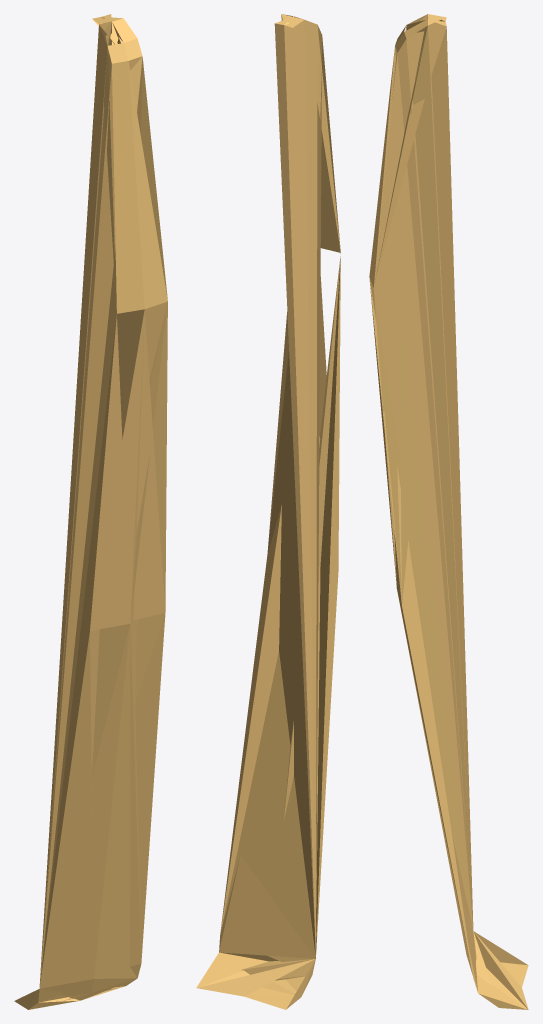
Rendered from S.S._Dolphin_part.018.obj.
The picture shows the model from 3 angles, left to right: view 1: azimuth 30°, elevation 25°; view 2: azimuth 150°, elevation 25°; view 3: azimuth 270°, elevation 25°; orthographic projection. The views are drawn at different scales.
Visible parts, largest first — view 1: S.S._Dolphin_part.018; view 2: S.S._Dolphin_part.018; view 3: S.S._Dolphin_part.018.
Boxes of the visible parts, bbox=[...] form: S.S._Dolphin_part.018: bbox=[14, 14, 167, 1009]; S.S._Dolphin_part.018: bbox=[196, 14, 340, 1009]; S.S._Dolphin_part.018: bbox=[369, 14, 528, 1009].
Size of the model in its own units: 0.2842 by 2.68 by 0.4007.
